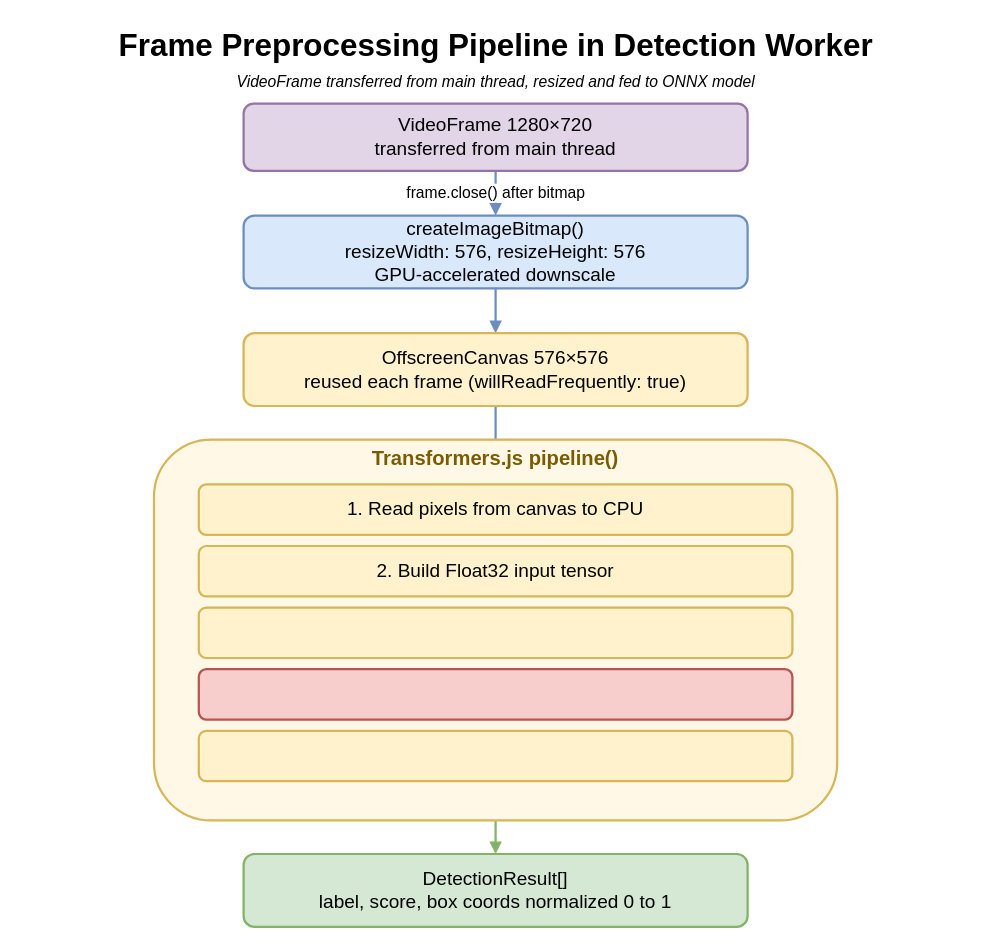
Some shapes in this 990 by 946 pixel diagram are drawn without their labels. The centre of each missing label's shape, as x and y in pixels:
3. Upload tensor to GPU buffer: the point at 495,632
4. Run ONNX graph — WGSL compute shaders on GPU: the point at 495,694
5. Readback output tensor to CPU: the point at 495,755
